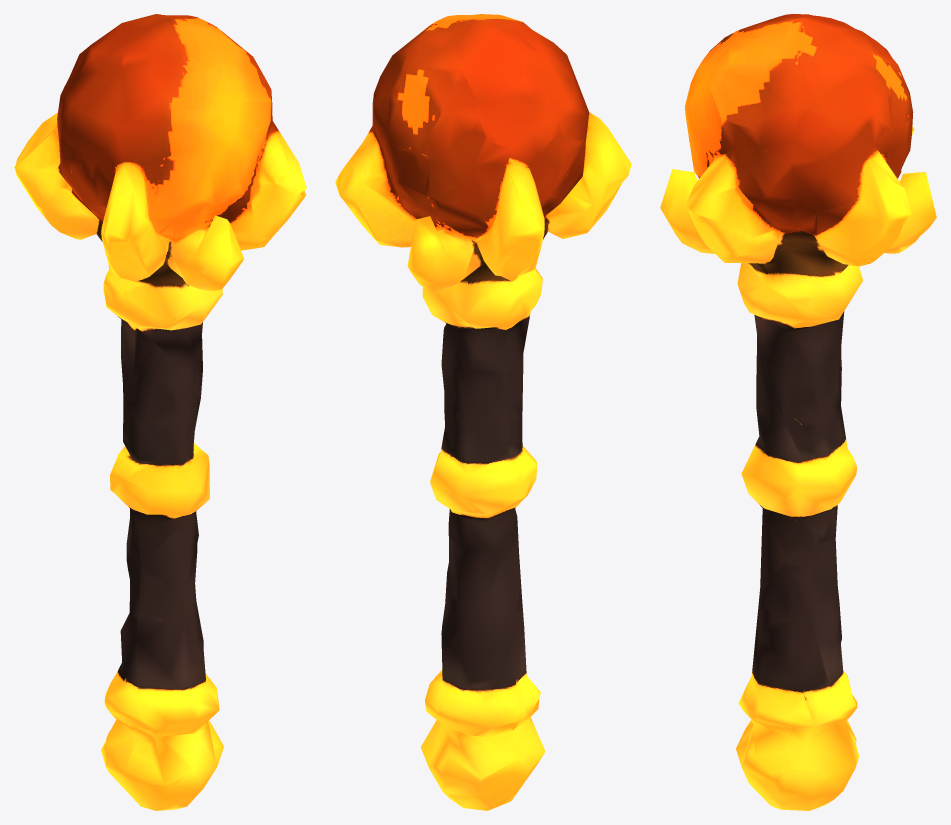
Rendered from Pyro_Wand-Ccwgkanp.glb.
The picture shows the model from 3 angles, left to right: view 1: azimuth 30°, elevation 25°; view 2: azimuth 150°, elevation 25°; view 3: azimuth 270°, elevation 25°; orthographic projection.
Parts seen in each view (by area): view 1: tripo_node_2fa47f6e-7b3f-4d78-abe1-6f6b11bd7589; view 2: tripo_node_2fa47f6e-7b3f-4d78-abe1-6f6b11bd7589; view 3: tripo_node_2fa47f6e-7b3f-4d78-abe1-6f6b11bd7589.
Boxes of the visible parts, box(x1,y1,x2,y2) form: tripo_node_2fa47f6e-7b3f-4d78-abe1-6f6b11bd7589: box(14, 14, 306, 810); tripo_node_2fa47f6e-7b3f-4d78-abe1-6f6b11bd7589: box(335, 14, 631, 810); tripo_node_2fa47f6e-7b3f-4d78-abe1-6f6b11bd7589: box(660, 14, 936, 810).
Size of the model in its own units: 0.2517 by 0.9 by 0.2865.
Materials: 1 (1 with a texture image).
